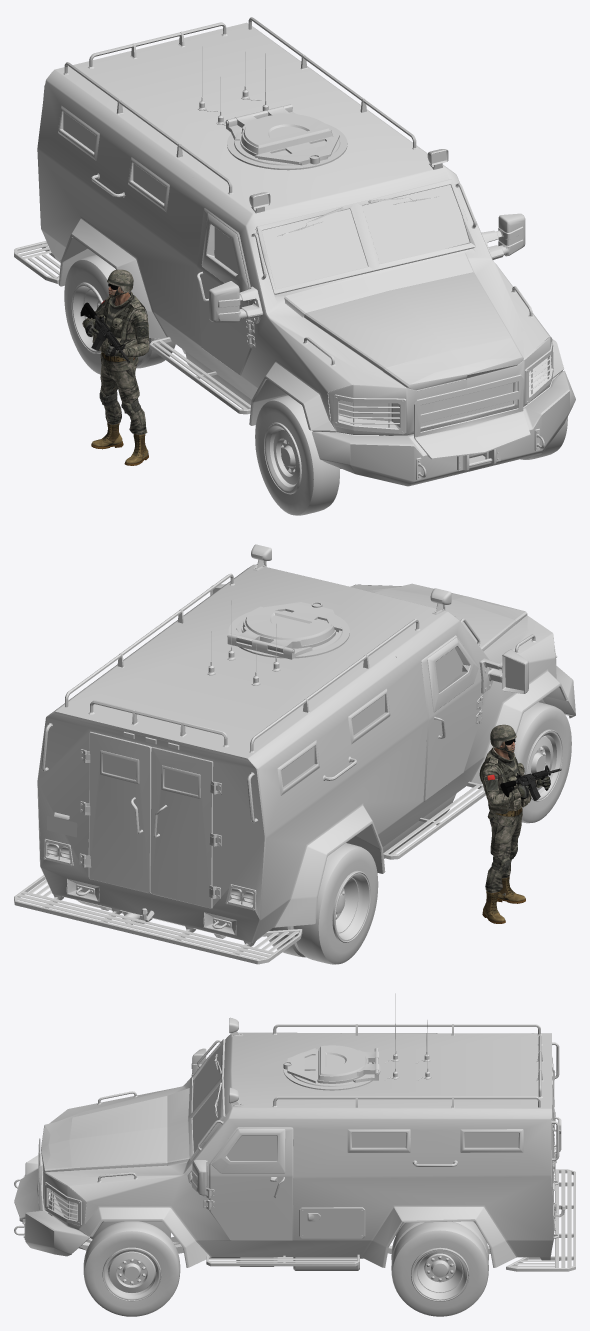
3 views of the same model, one above another, from view 1: azimuth 30°, elevation 25°; view 2: azimuth 150°, elevation 25°; view 3: azimuth 270°, elevation 25° (orthographic). The views are drawn at different scales.
Visible parts, largest first — view 1: 外壳, boli, 轮子, 车架, 士兵, 天线; view 2: 外壳, 后门, 轮子, 车架, 士兵, 天线, boli; view 3: 外壳, 轮子, 车架, boli, 天线, 后门.
Boxes of the visible parts, box(x1,y1,x2,y2) form: 外壳: box(37, 17, 575, 486); boli: box(63, 112, 469, 289); 轮子: box(64, 255, 567, 515); 车架: box(14, 177, 551, 468); 士兵: box(80, 269, 149, 465); 天线: box(197, 46, 347, 170); 外壳: box(37, 544, 575, 942); 后门: box(83, 731, 215, 908); 轮子: box(76, 702, 571, 964); 车架: box(14, 657, 565, 964); 士兵: box(479, 724, 561, 923); 天线: box(207, 600, 349, 685); boli: box(102, 648, 462, 794); 外壳: box(14, 1017, 559, 1267); 轮子: box(83, 1221, 488, 1316); 车架: box(44, 1169, 575, 1271); boli: box(192, 1045, 518, 1160); 天线: box(283, 993, 431, 1090); 后门: box(552, 1056, 561, 1210).
Size of the model in its own units: 1455 by 1210 by 2329.
